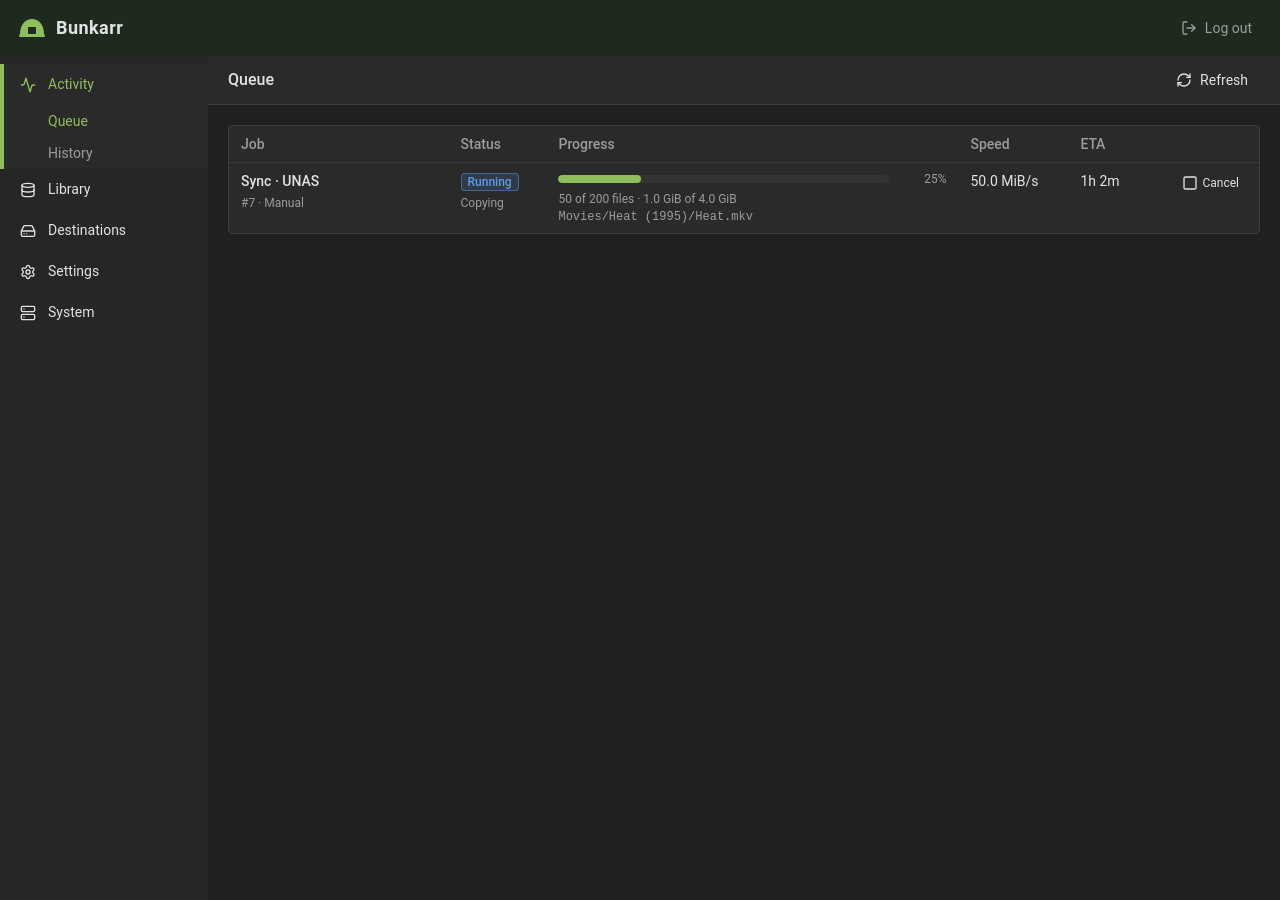
Test case: Queue › renders progress, throughput and ETA, and cancels a job
Expected: the text "50 of 200 files · 1.0 GiB of 4.0 GiB" is shown, [558, 192, 737, 206]
Expected: the text "50.0 MiB/s" is shown, [958, 163, 1068, 233]
Click the button with aria-label "Cancel job #7" at (1211, 183), box [1174, 171, 1247, 195]
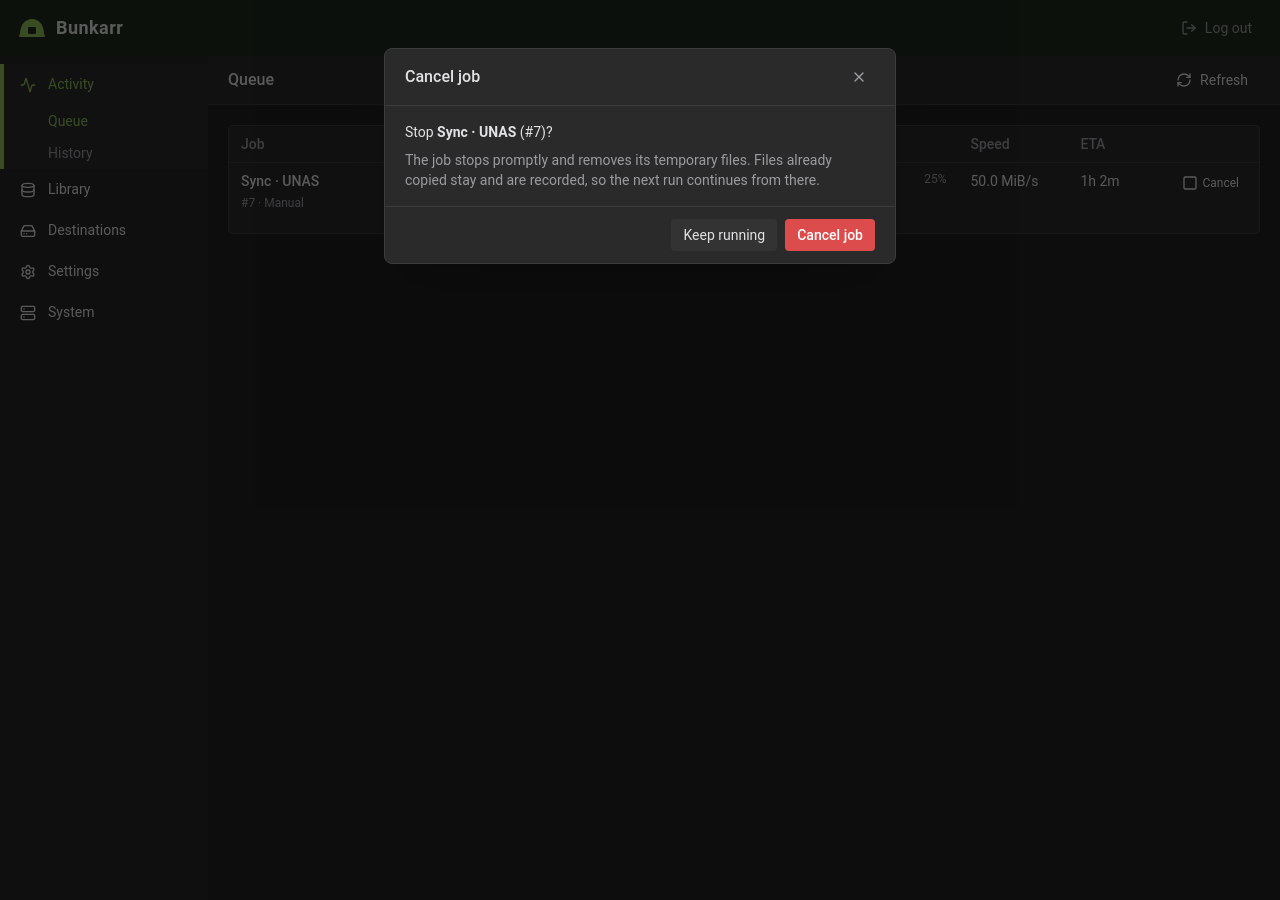
Click the button "Cancel job" at (830, 235), box [785, 219, 875, 251]
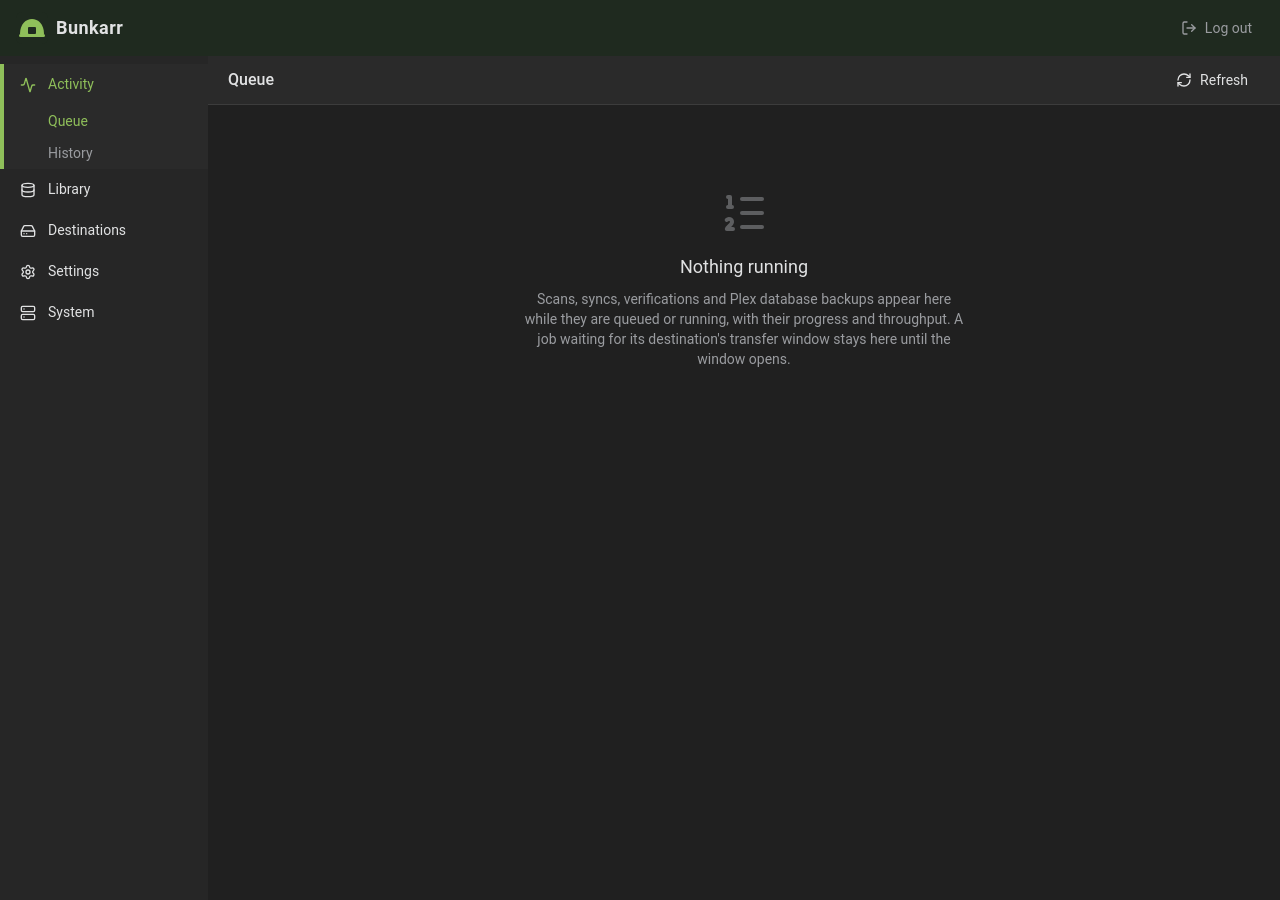
Expected: the heading "Nothing running" is shown, [680, 256, 808, 277]
